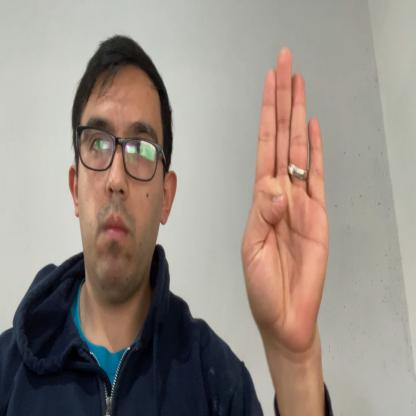B: (240, 46, 330, 349)
